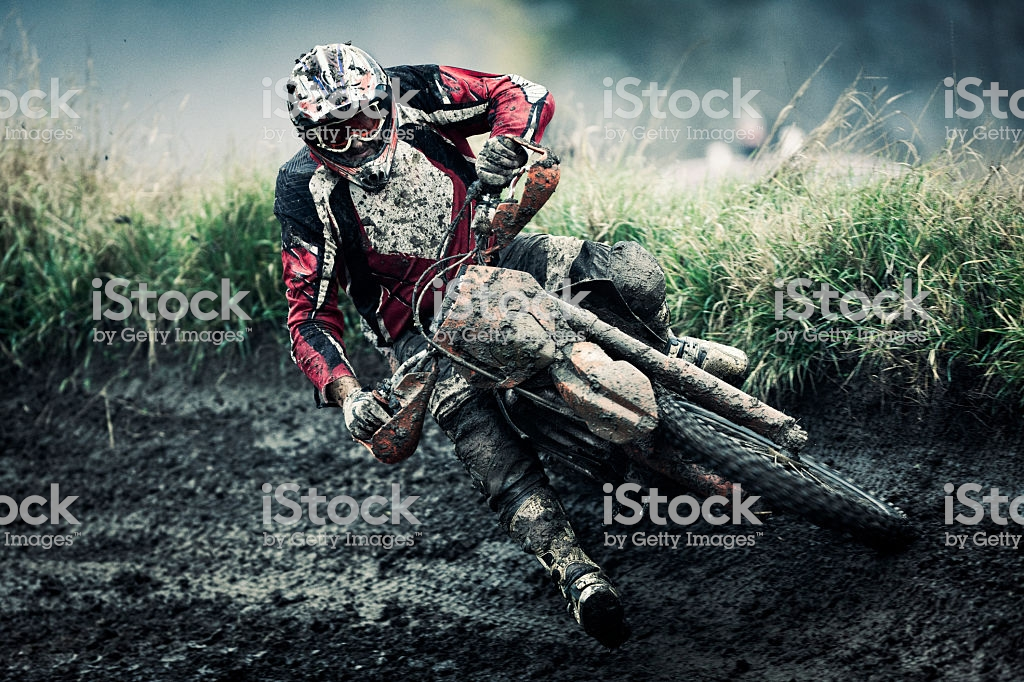helmet: (291, 47, 398, 187)
